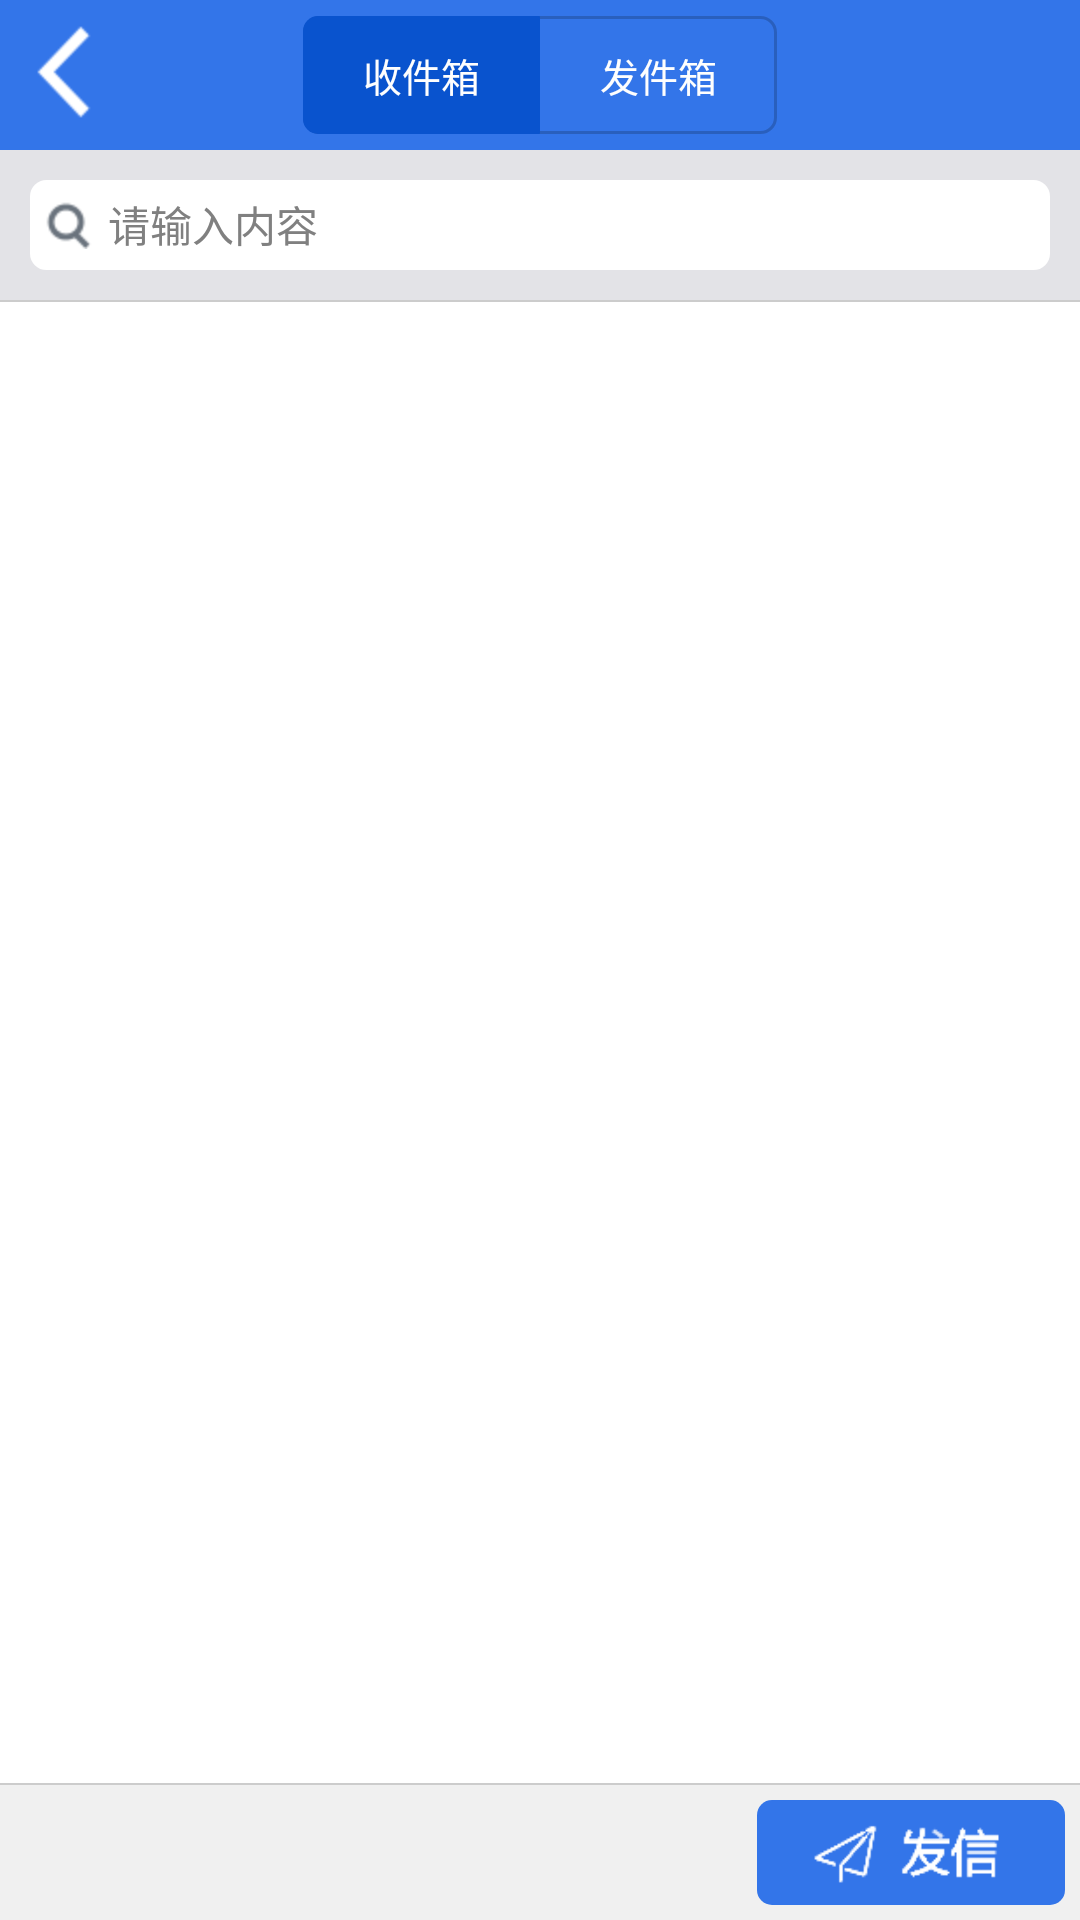

Icons on this 1080 x 1920 Android screen, each with its box as (x1, y1, x2, y2):
back: (37, 26, 90, 118)
search: (47, 203, 90, 249)
